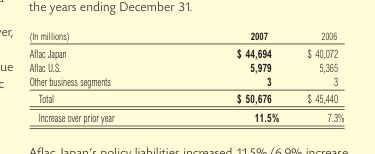table: (28, 29, 344, 123)
table column: (28, 29, 174, 123), (174, 29, 292, 123), (292, 29, 344, 123)
table column header: (28, 29, 344, 43)
table row: (28, 89, 344, 107), (28, 43, 344, 59), (28, 73, 344, 89), (28, 107, 344, 123), (28, 29, 344, 43), (28, 59, 344, 73)
